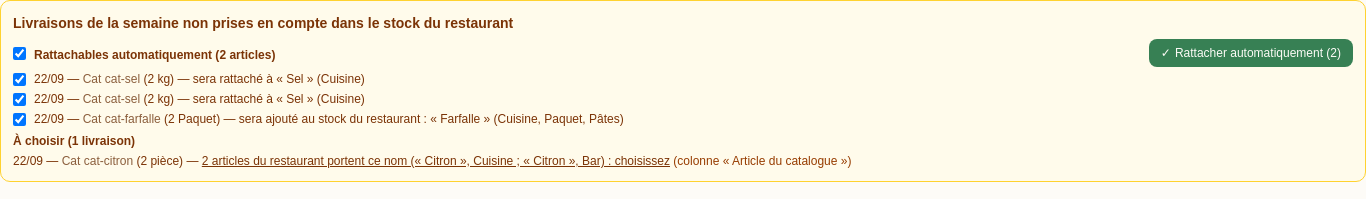
Test case: bandeau — rattachement automatique › le clic envoie les articles automatiques (sans doublon) ; le compte-rendu reste quand le bandeau se vide
This screenshot has width=1366, height=199.
Click the button "✓ Rattacher automatiquement (2)" at (1251, 53), box [1149,39,1353,67]
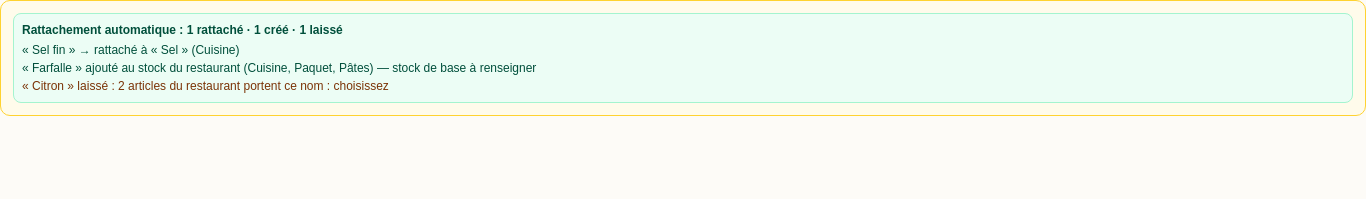
Check: the message shows "Rattachement automatique : 1 rattaché · 1 créé · 1 laissé", box [22,23,343,37]
Check: the message shows "« Sel fin » → rattaché à « Sel » (Cuisine)", box [13,13,1353,103]
Check: the message shows "« Farfalle » ajouté au stock du restaurant (Cuisine, Paquet, Pâtes) — stock de base à renseigner", box [13,13,1353,103]
